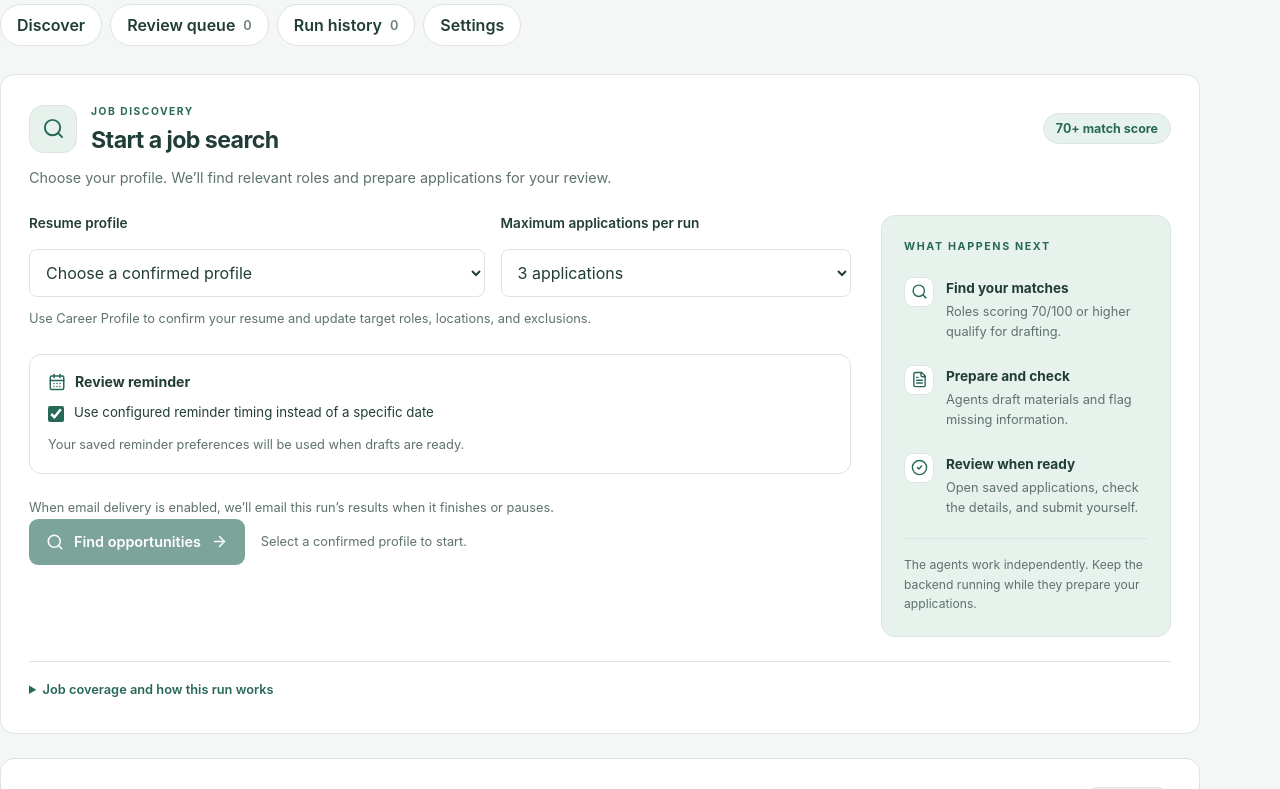
Test: starts autonomous discovery using the selected resume and review date
expect the button "Find opportunities" is disabled: met, box x1=29 y1=519 x2=245 y2=565
Select "Resume.pdf" in the dropdown labelled "Resume profile": {"x": 257, "y": 273} x1=29 y1=249 x2=485 y2=297
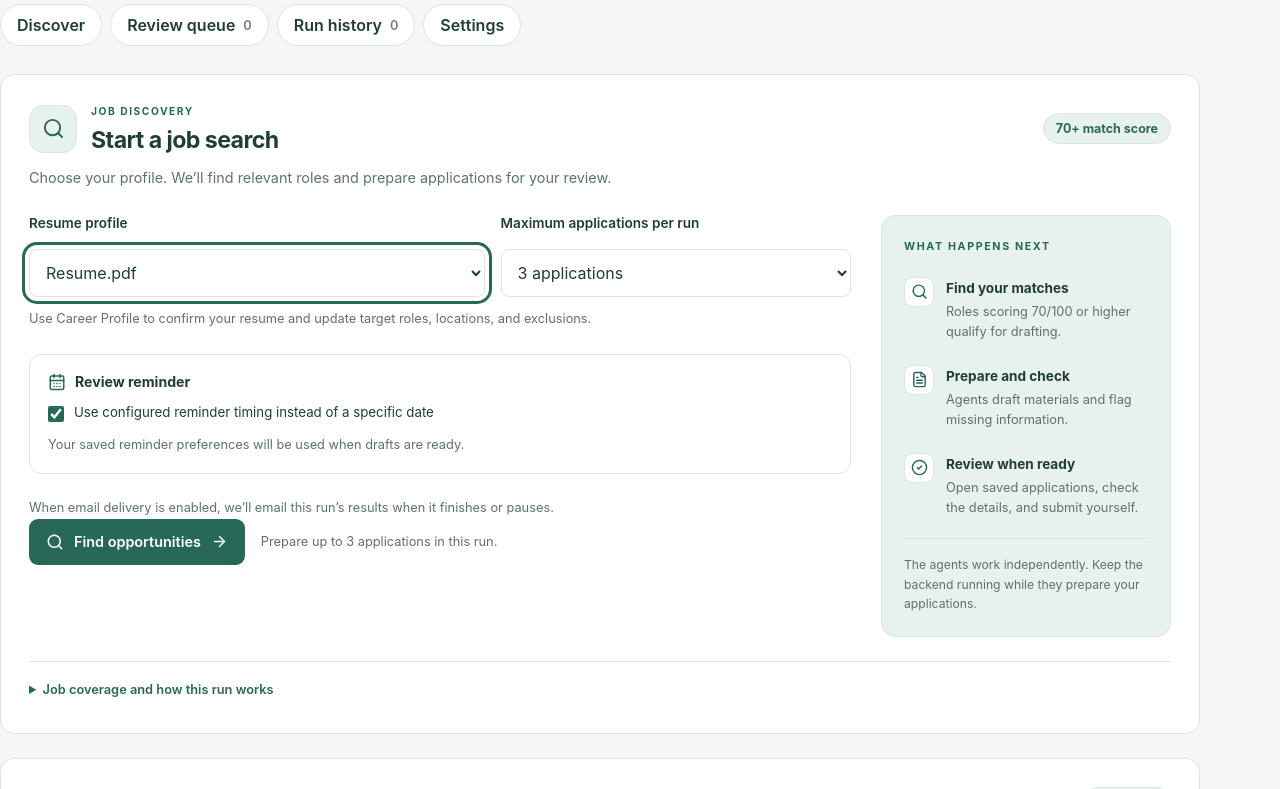
Select "1 application" in the dropdown labelled "Maximum applications per run": {"x": 676, "y": 273} x1=501 y1=249 x2=851 y2=297
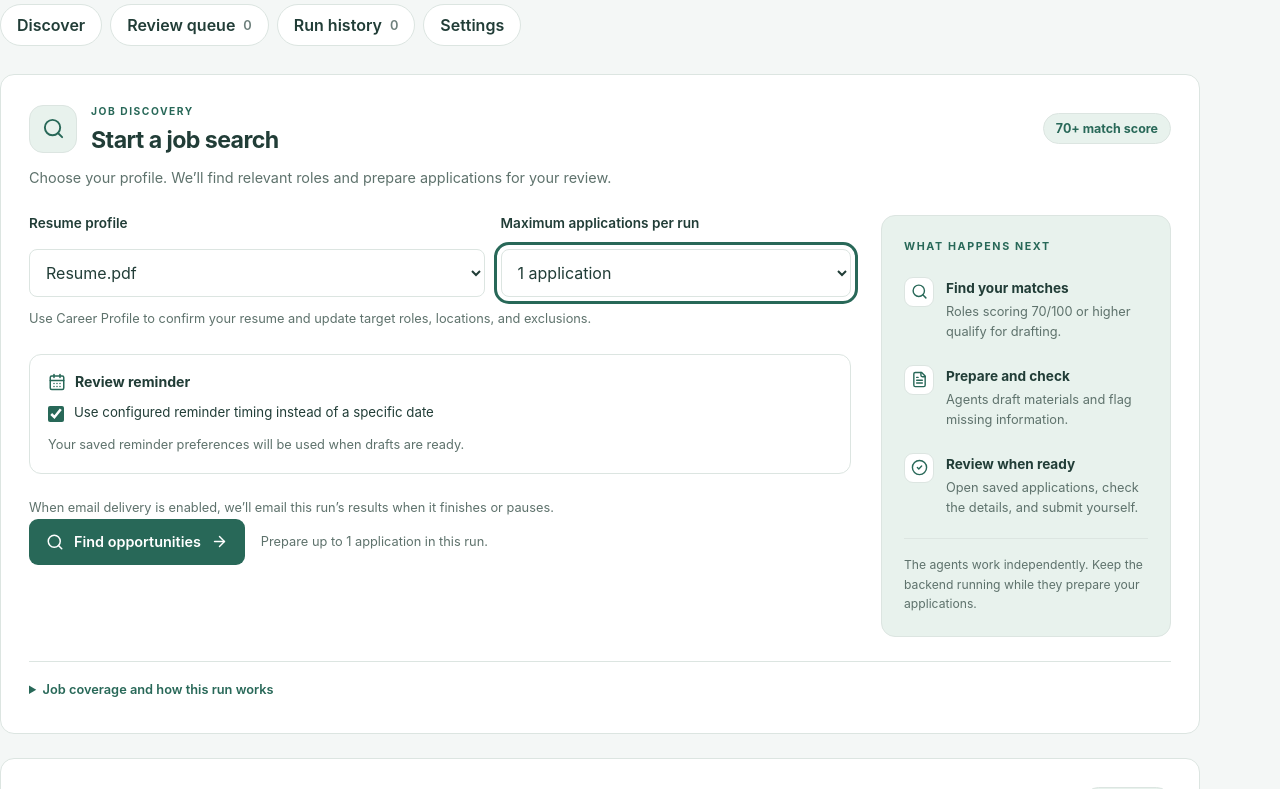
expect the field labelled "Remind me to review on" is not shown: met
Click the checkbox labelled "Use configured reminder timing instead of a specific date": {"x": 56, "y": 414} x1=48 y1=406 x2=64 y2=422
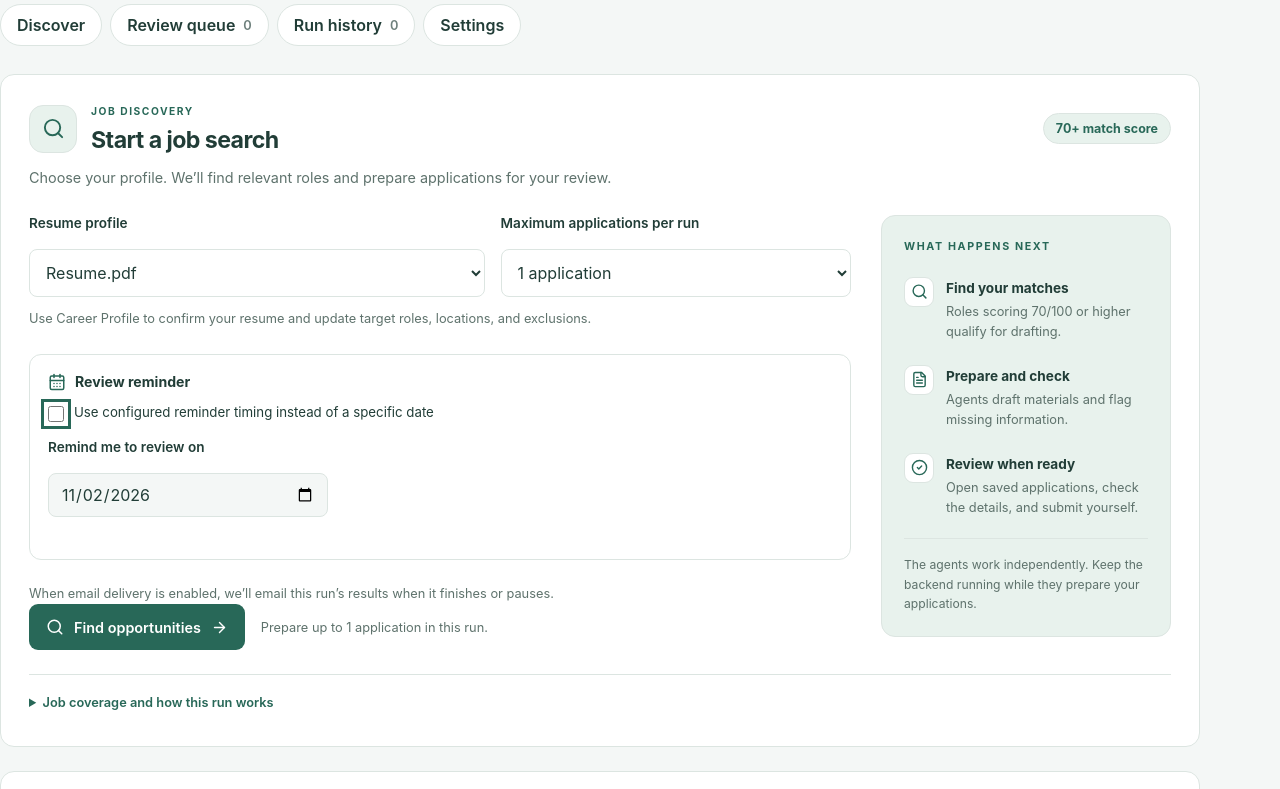
expect the date field labelled "Remind me to review on" is shown: met, box x1=48 y1=473 x2=328 y2=517
Click the button "Find opportunities": {"x": 137, "y": 627} x1=29 y1=604 x2=245 y2=650
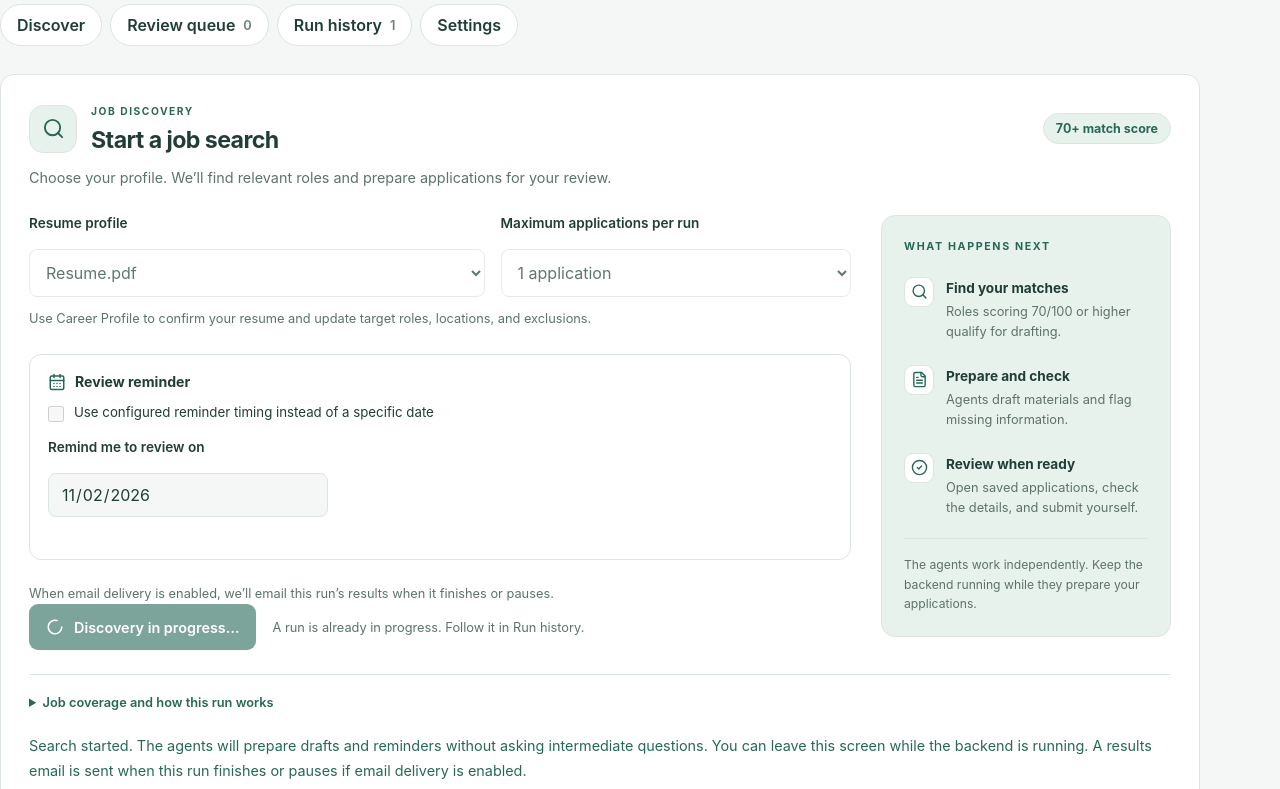
expect the button "Discovery in progress…" is disabled: met, box x1=29 y1=604 x2=256 y2=650
expect the text "Search started" is shown: met, box x1=29 y1=737 x2=1152 y2=779
